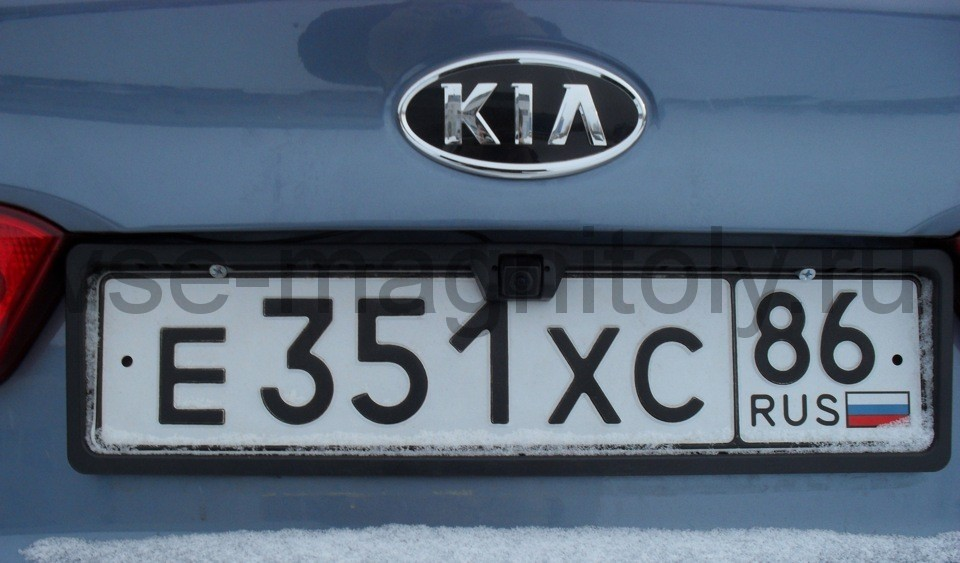number_plate: (117, 286, 931, 460)
